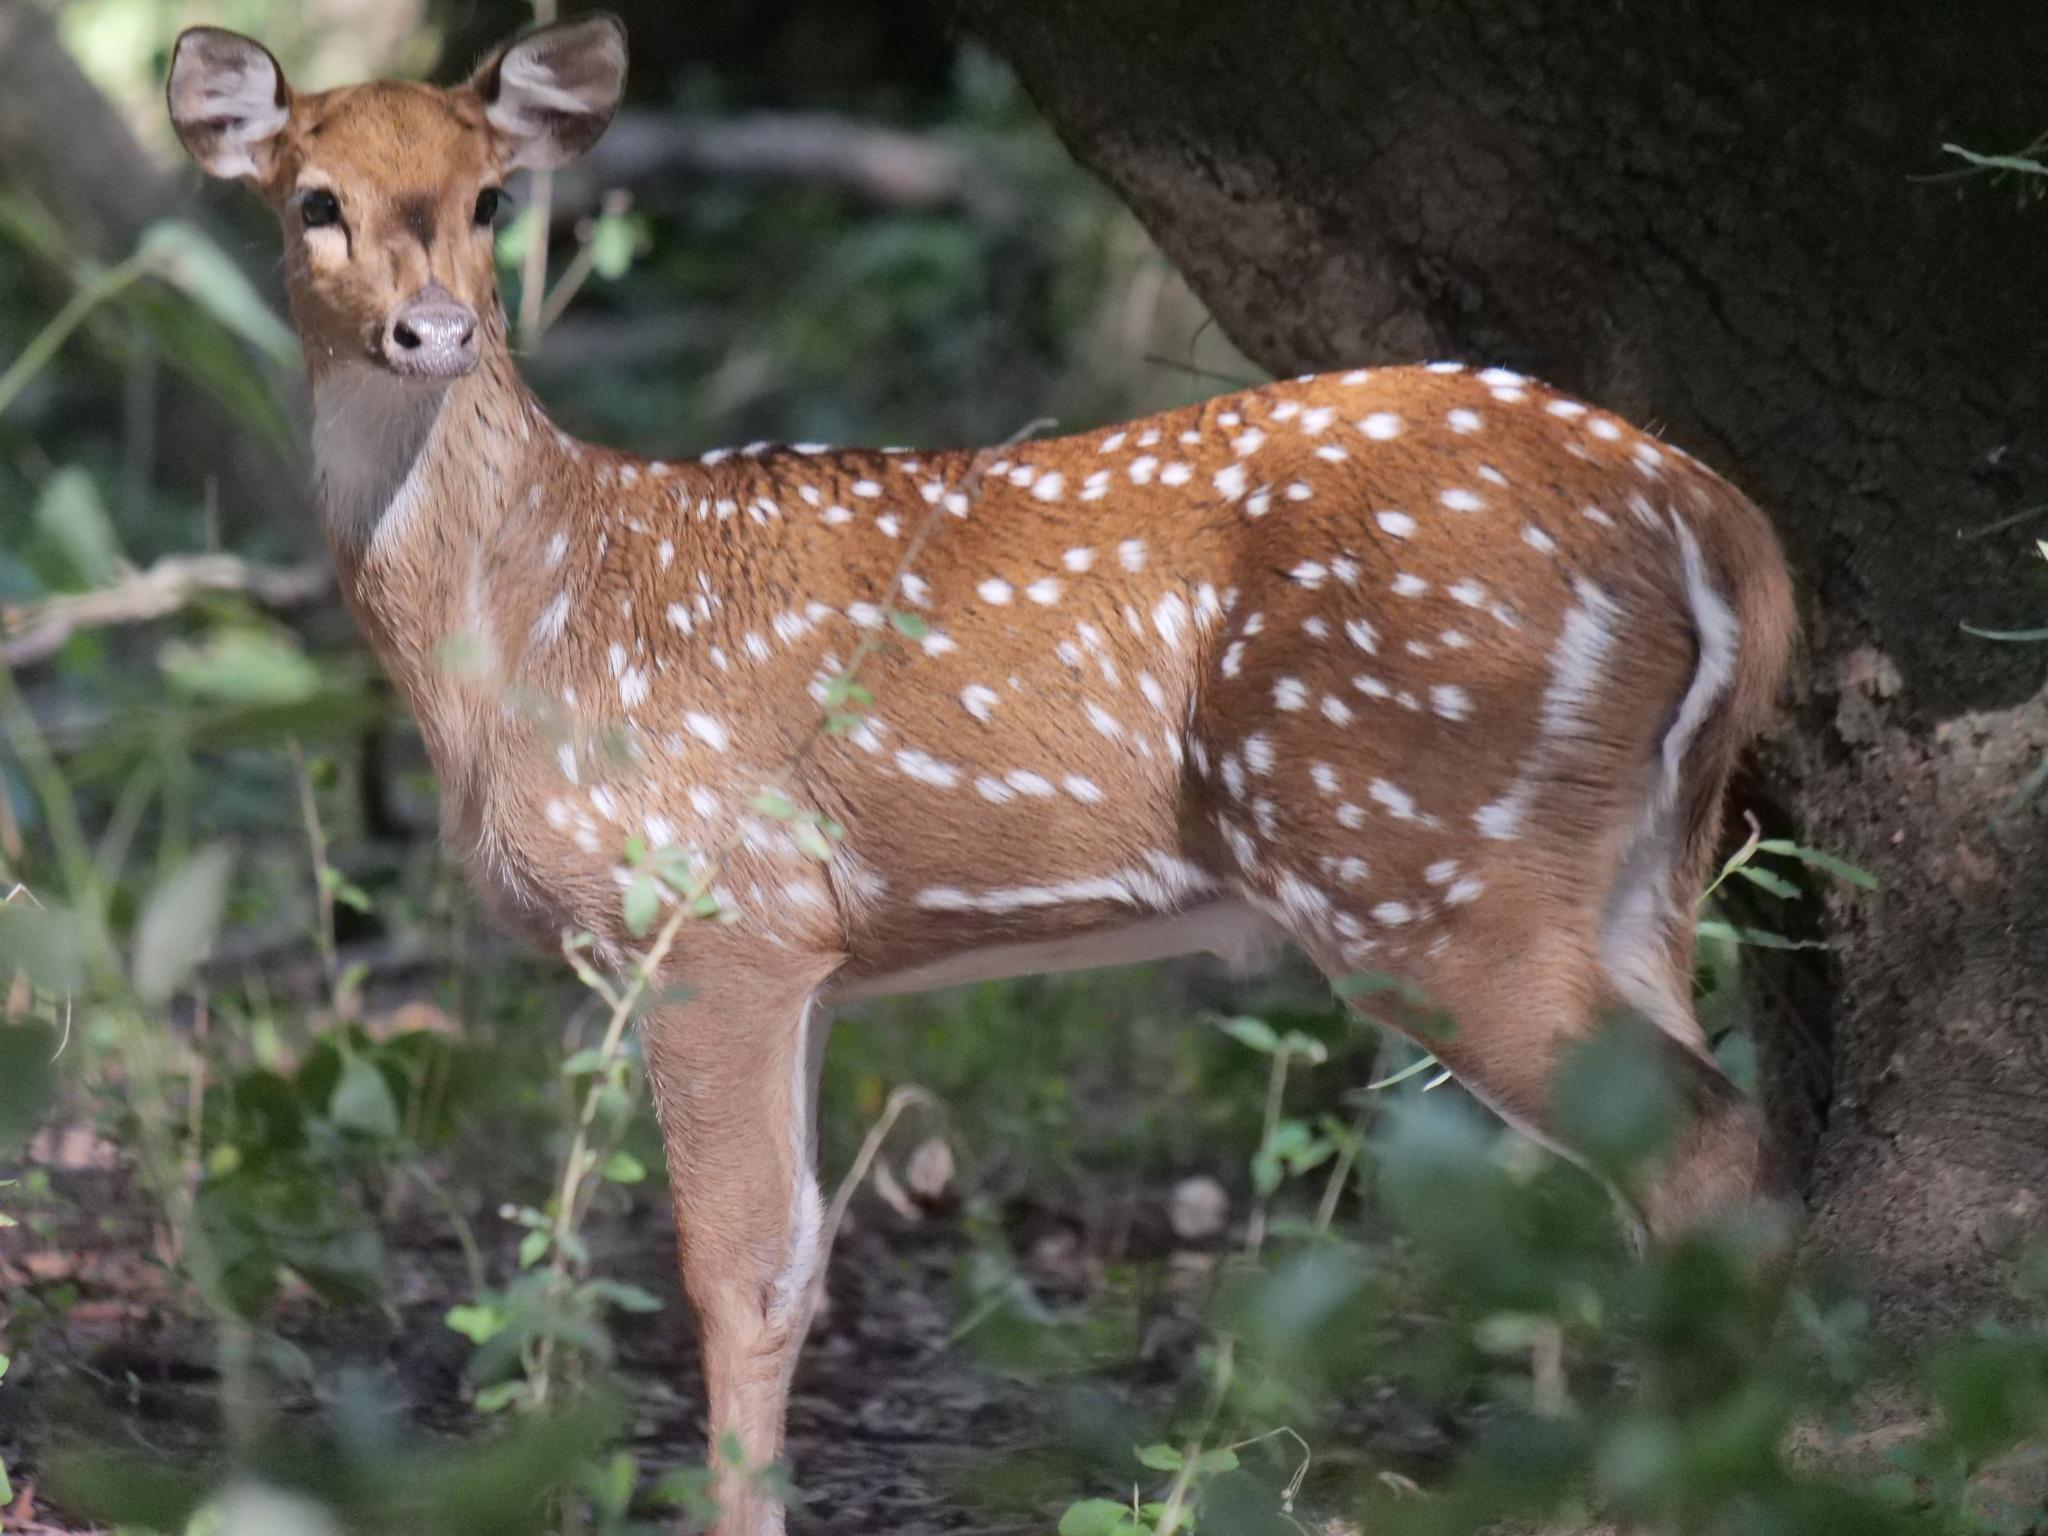Deer: (168, 16, 1795, 1471)
